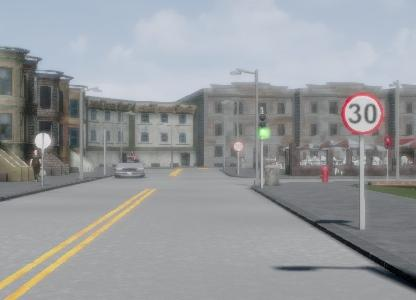Speed_30: (354, 81, 406, 131)
